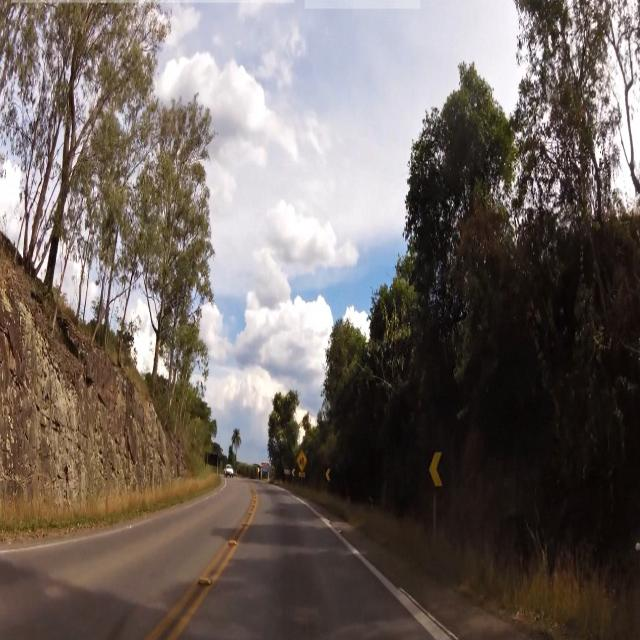Del: (430, 446, 445, 488), (324, 464, 330, 479)
